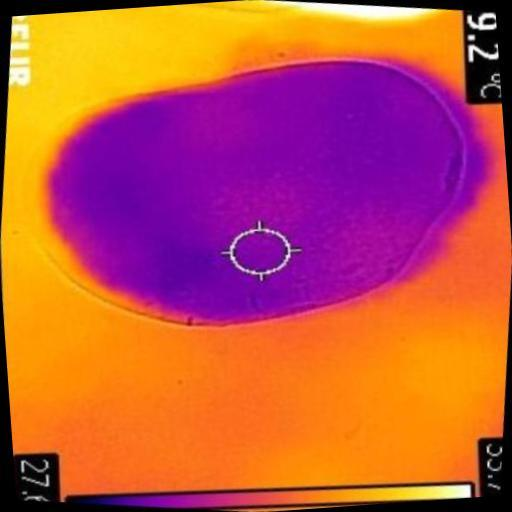alphanso: (19, 60, 470, 324)
